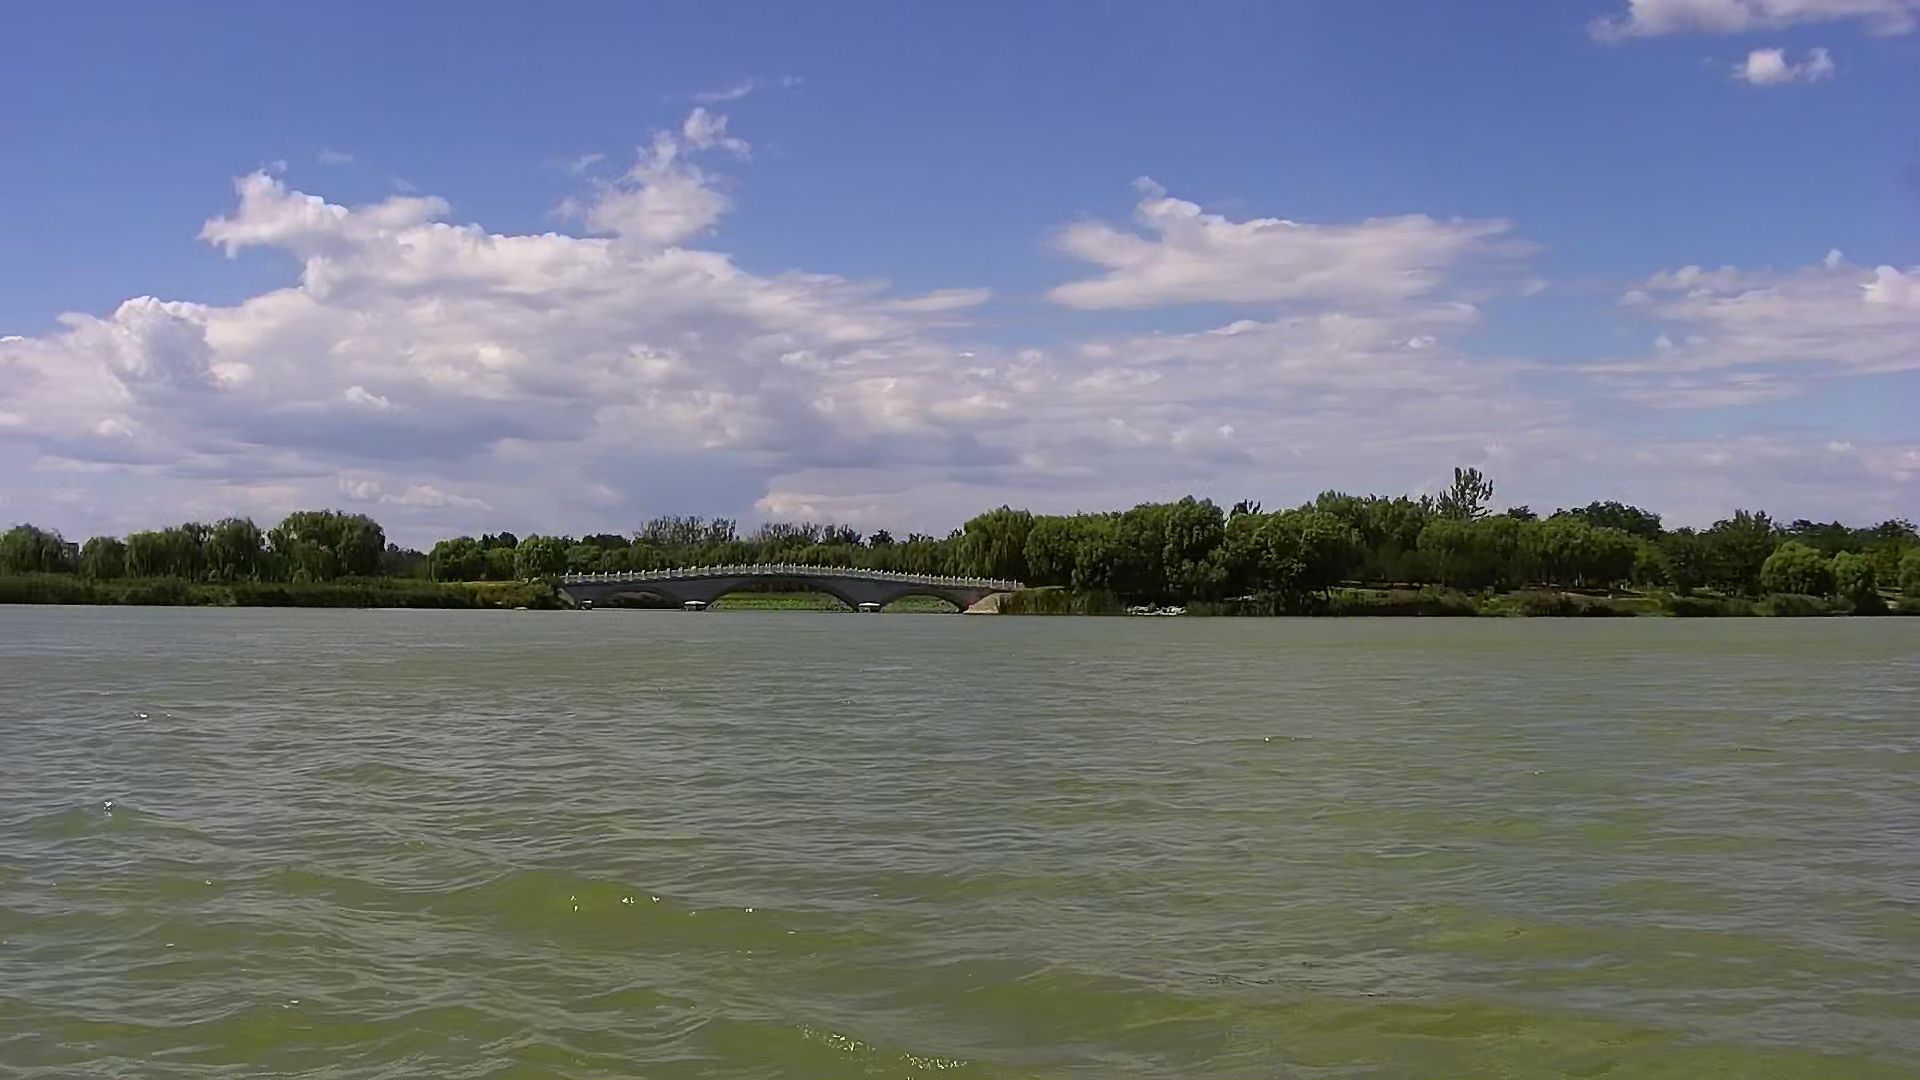bridge: (542, 560, 1044, 625)
